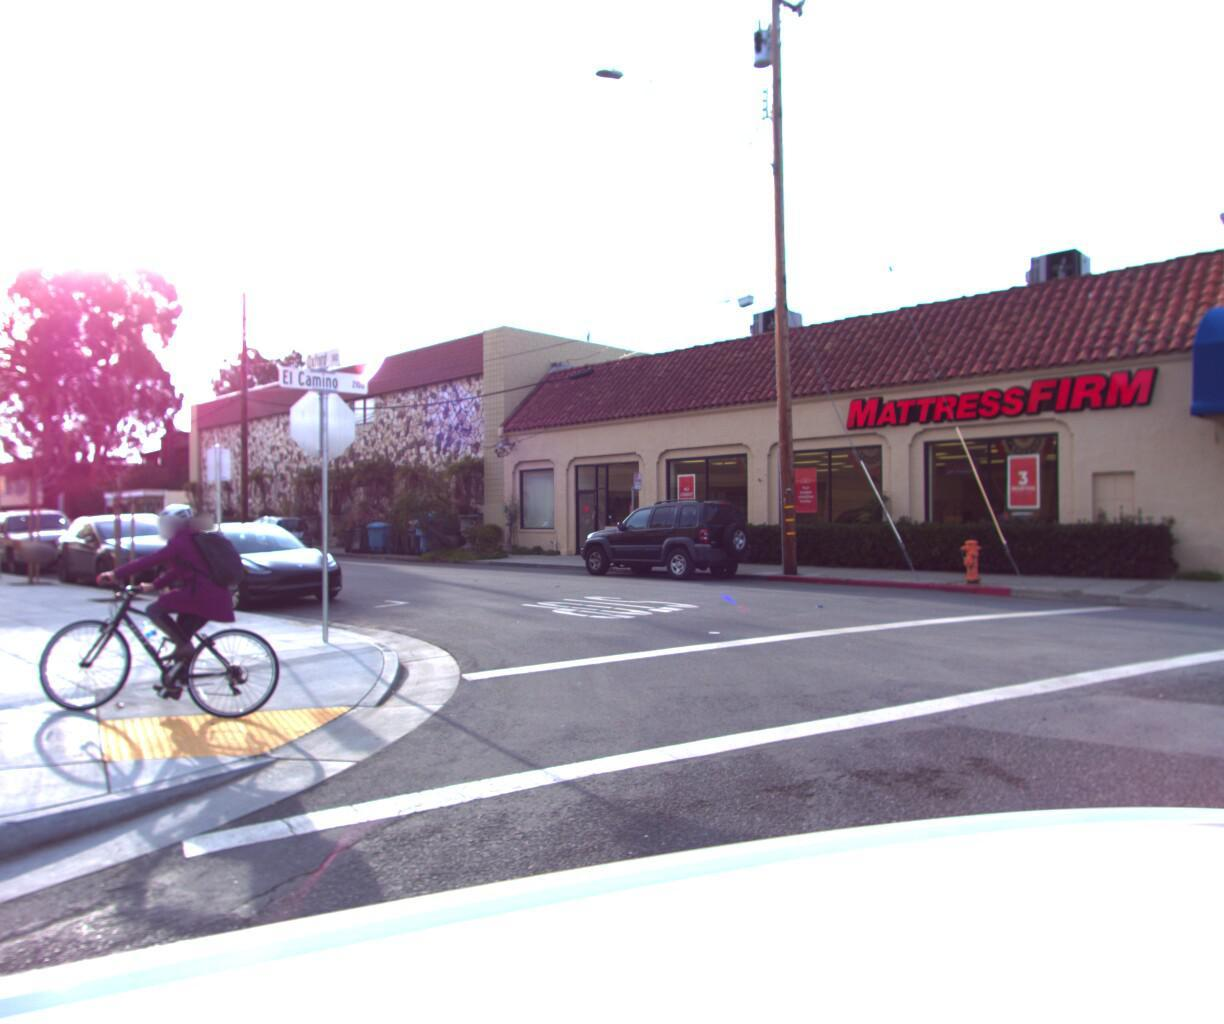bicycle: (0, 488, 332, 738)
car: (142, 521, 356, 620), (570, 494, 767, 580), (42, 509, 212, 592), (0, 509, 98, 578), (226, 517, 313, 556)
